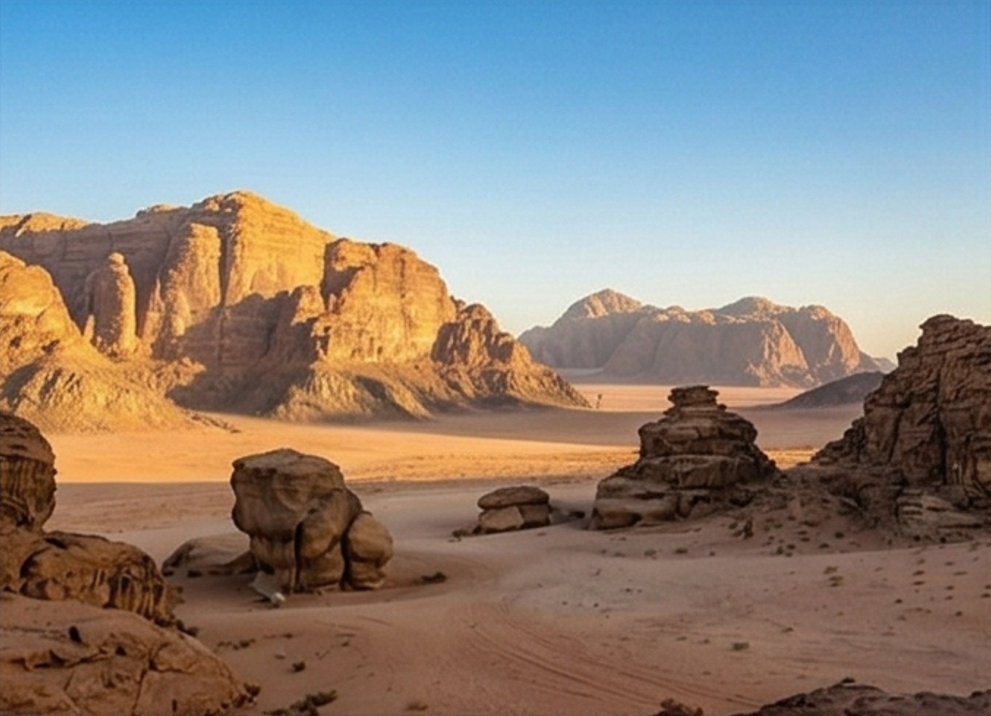rocks: (591, 386, 775, 529), (231, 449, 392, 593), (474, 486, 552, 533)
